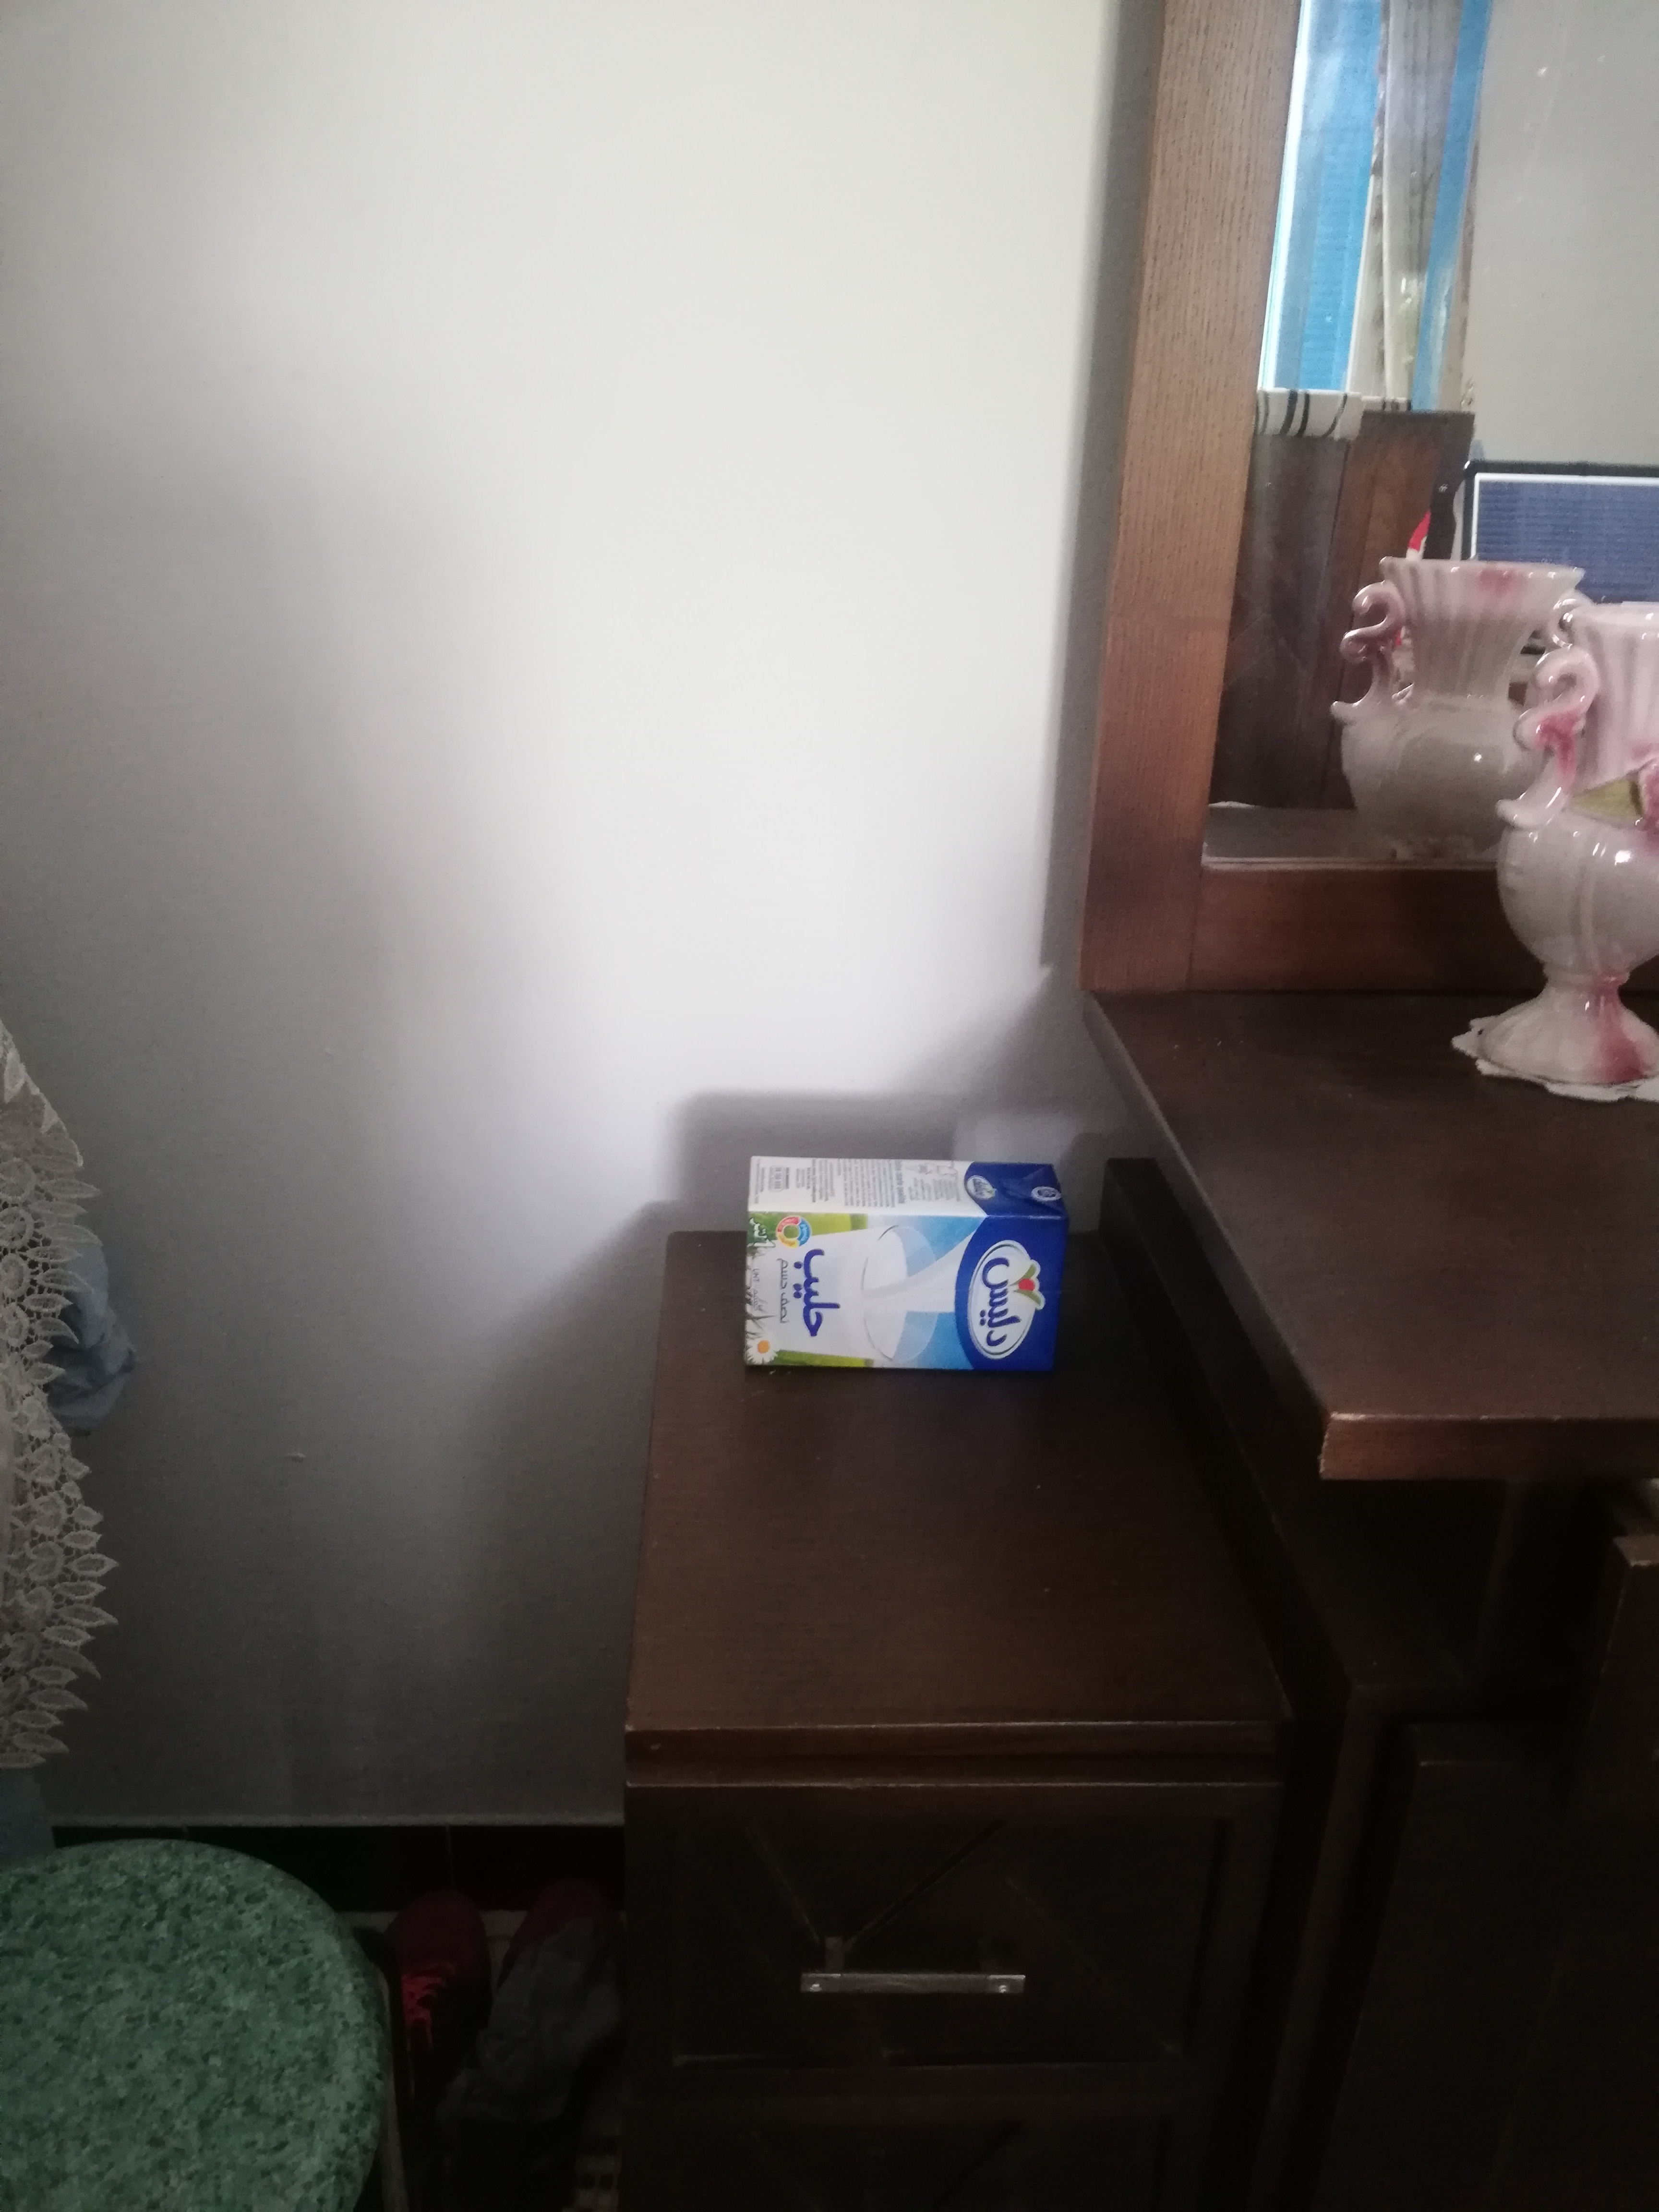Lait delice: (748, 1153, 1063, 1376)
